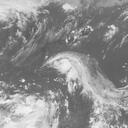cyclone: (2, 96, 58, 125), (50, 52, 88, 84)
